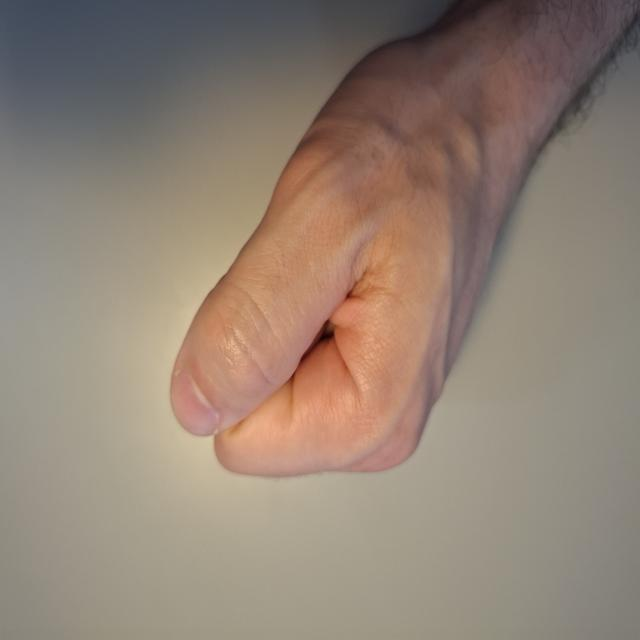glove_off: (167, 3, 601, 483)
